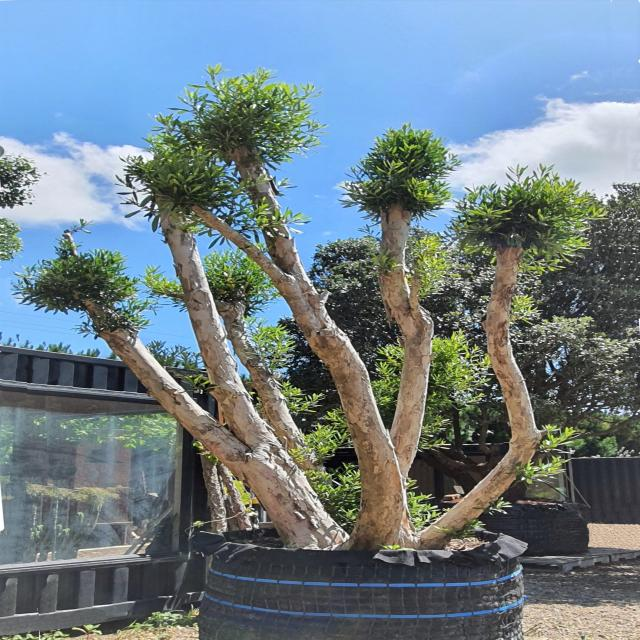Tristaniopsis laurina: (12, 73, 604, 542)
